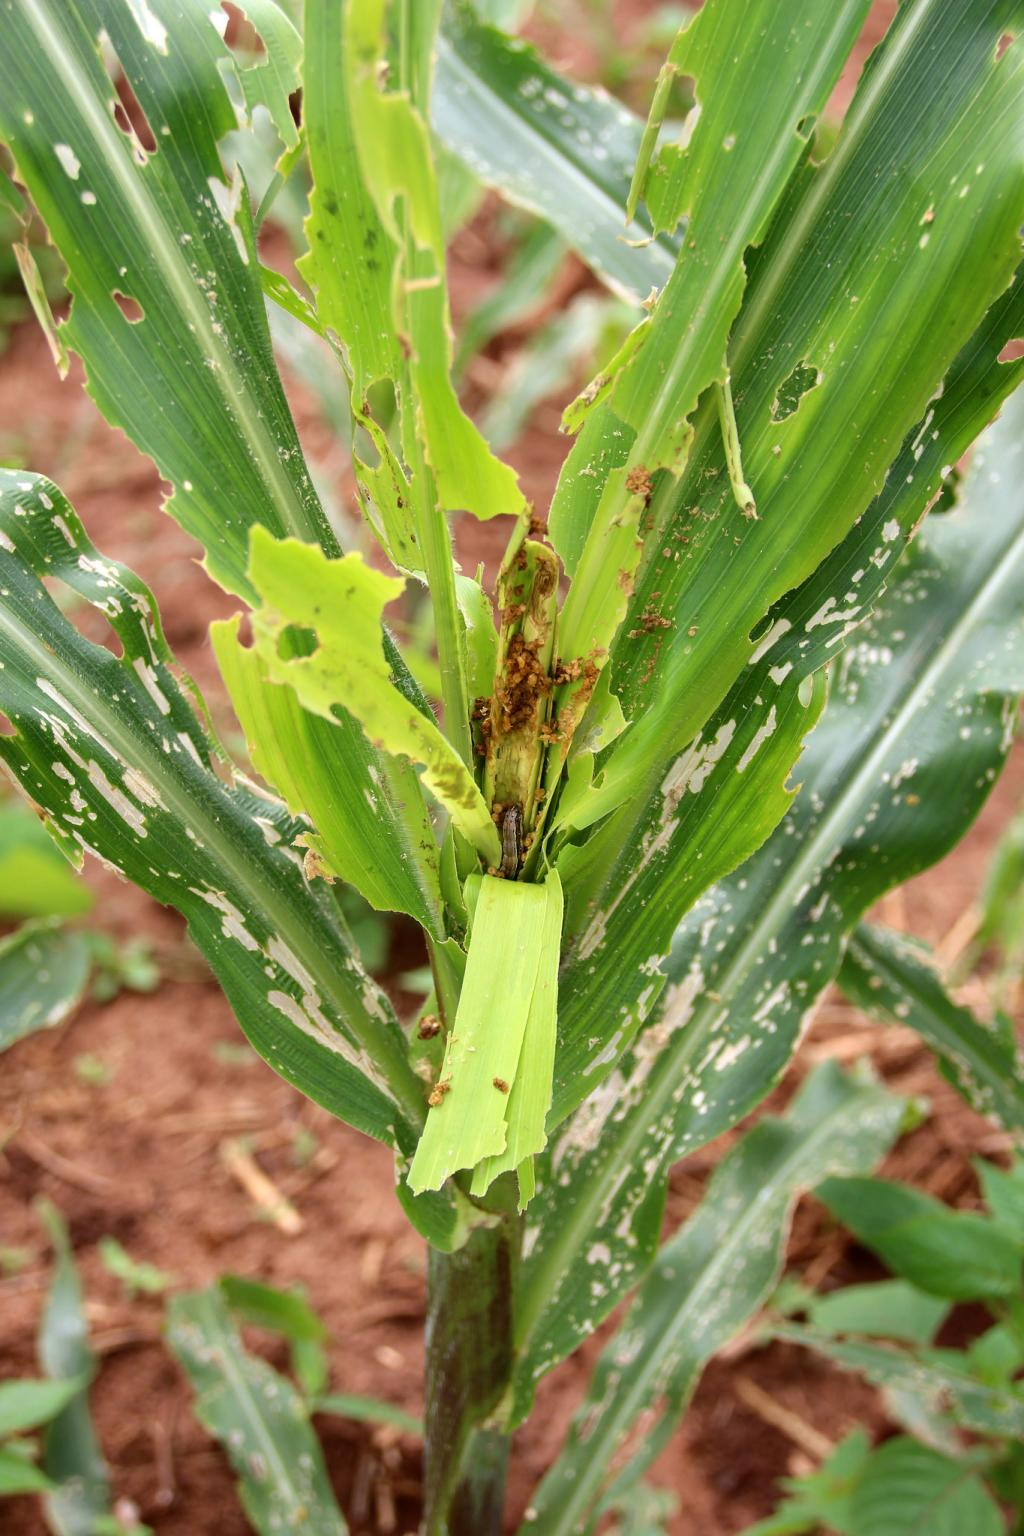Maize-fall-armyworm: (1, 155, 867, 1536)
